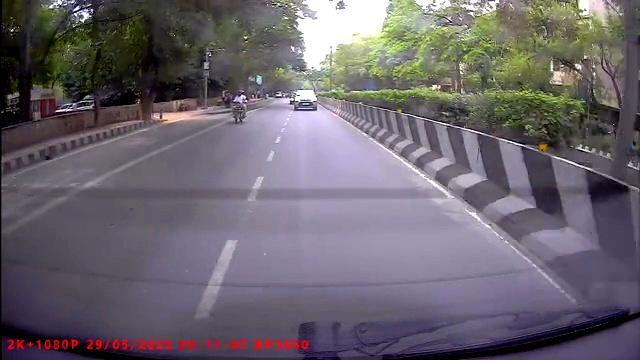motorcycle_with_helmet: (231, 88, 248, 125)
